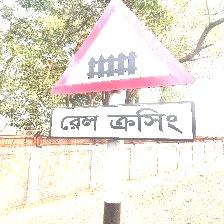Rail-crossing: (42, 0, 195, 157)
